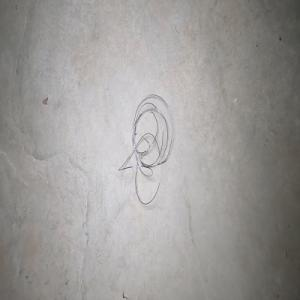Wire: (117, 94, 172, 204)
